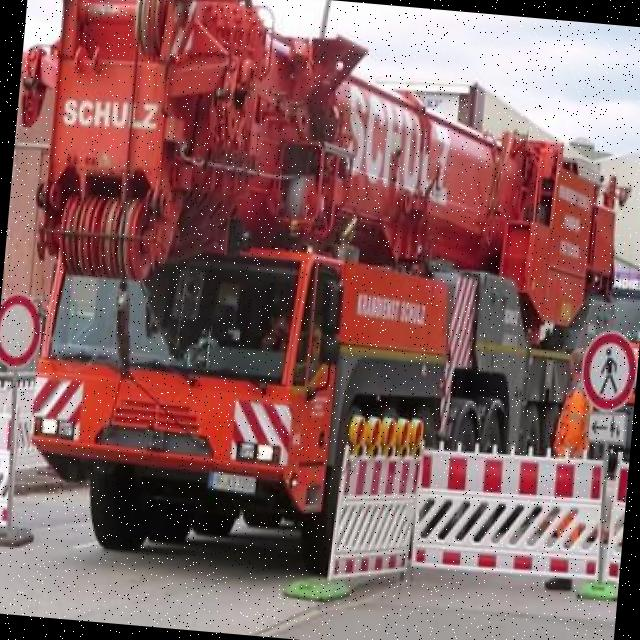Mobile Crane: (0, 0, 633, 591)
